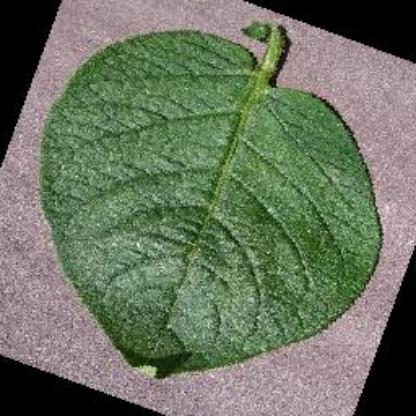Healthy-plant: (36, 15, 386, 384)
